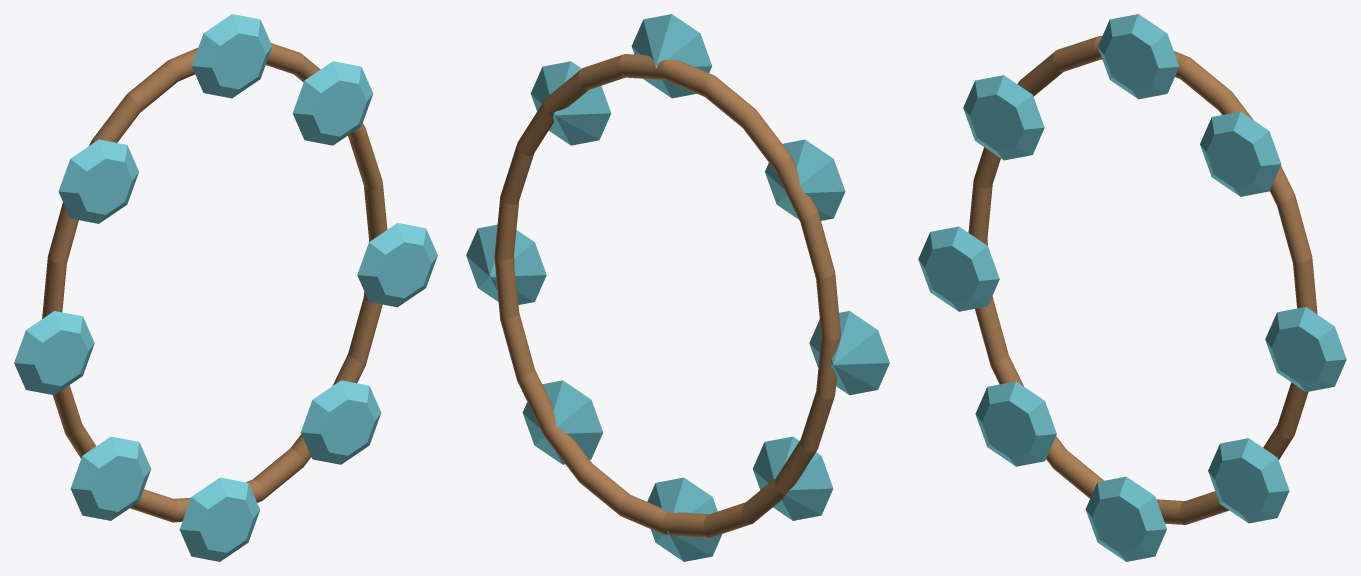
File: tinker.obj
3 views of the same model, side by side, from view 1: azimuth 30°, elevation 25°; view 2: azimuth 150°, elevation 25°; view 3: azimuth 330°, elevation 25° (orthographic).
Visible parts, largest first — view 1: group_0_7720667, group_0_11107152; view 2: group_0_7720667, group_0_11107152; view 3: group_0_7720667, group_0_11107152.
Part boxes in pixels (x1,y1,x2,y2): group_0_7720667: [14, 14, 437, 561]; group_0_11107152: [42, 43, 387, 522]; group_0_7720667: [466, 14, 889, 561]; group_0_11107152: [494, 54, 840, 537]; group_0_7720667: [918, 14, 1346, 561]; group_0_11107152: [968, 35, 1317, 524].
Bounding box in the file's own units: 105 × 129 × 10.
